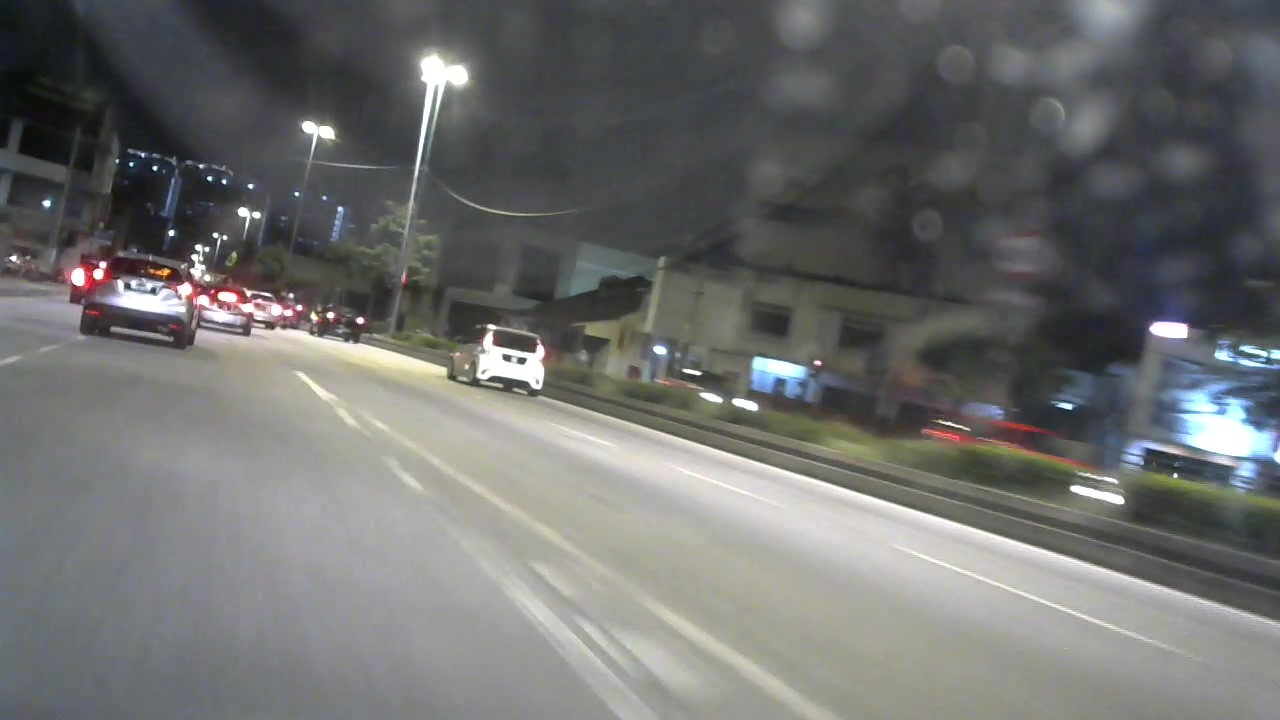Car: (82, 253, 198, 354), (448, 320, 553, 401), (194, 288, 257, 338), (303, 299, 377, 341), (237, 289, 288, 331)
